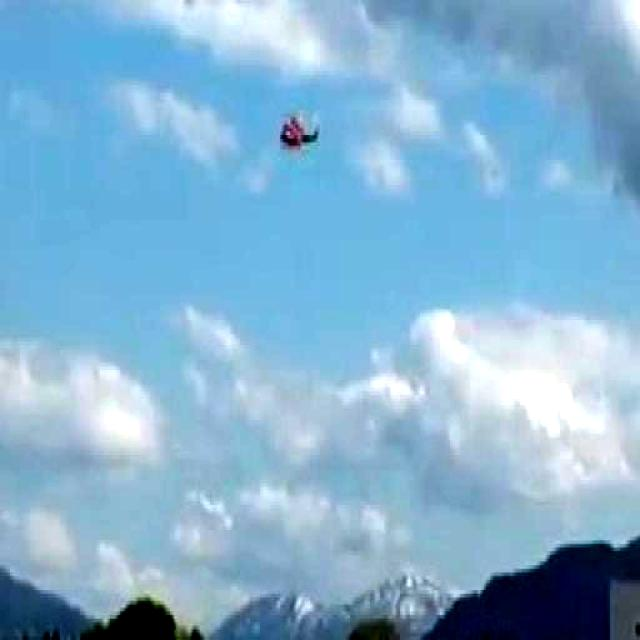drone: (279, 101, 325, 156)
